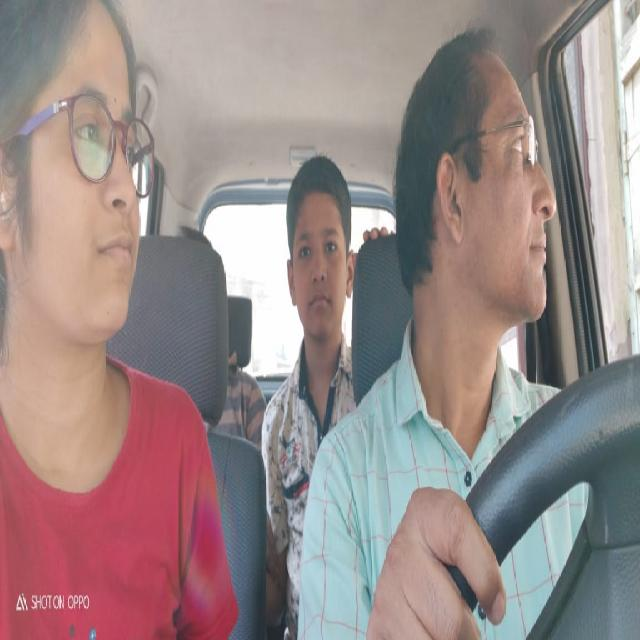LeftRight: (392, 14, 555, 347)
person: (0, 0, 148, 349), (282, 144, 357, 354)
